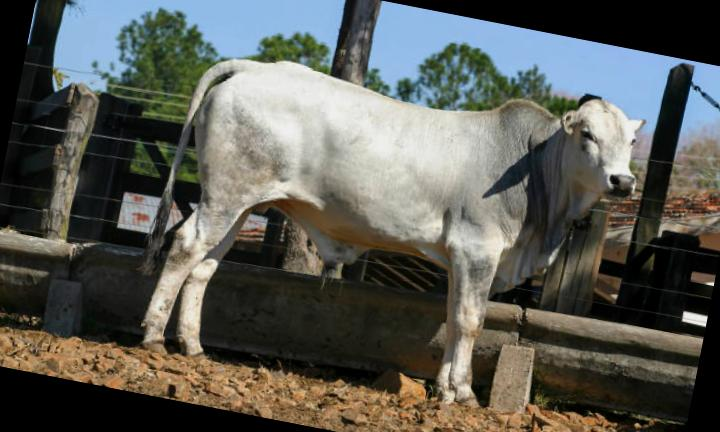Brahman: (142, 59, 644, 404)
